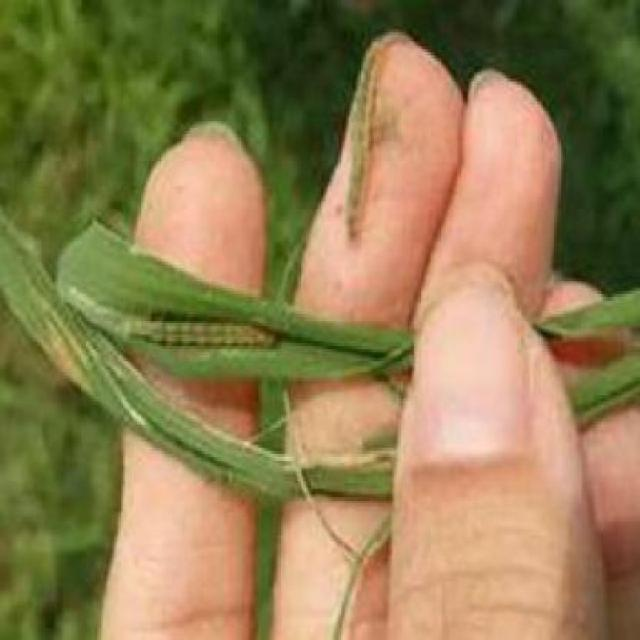leaf-folder: (332, 25, 433, 240), (119, 265, 308, 364)
